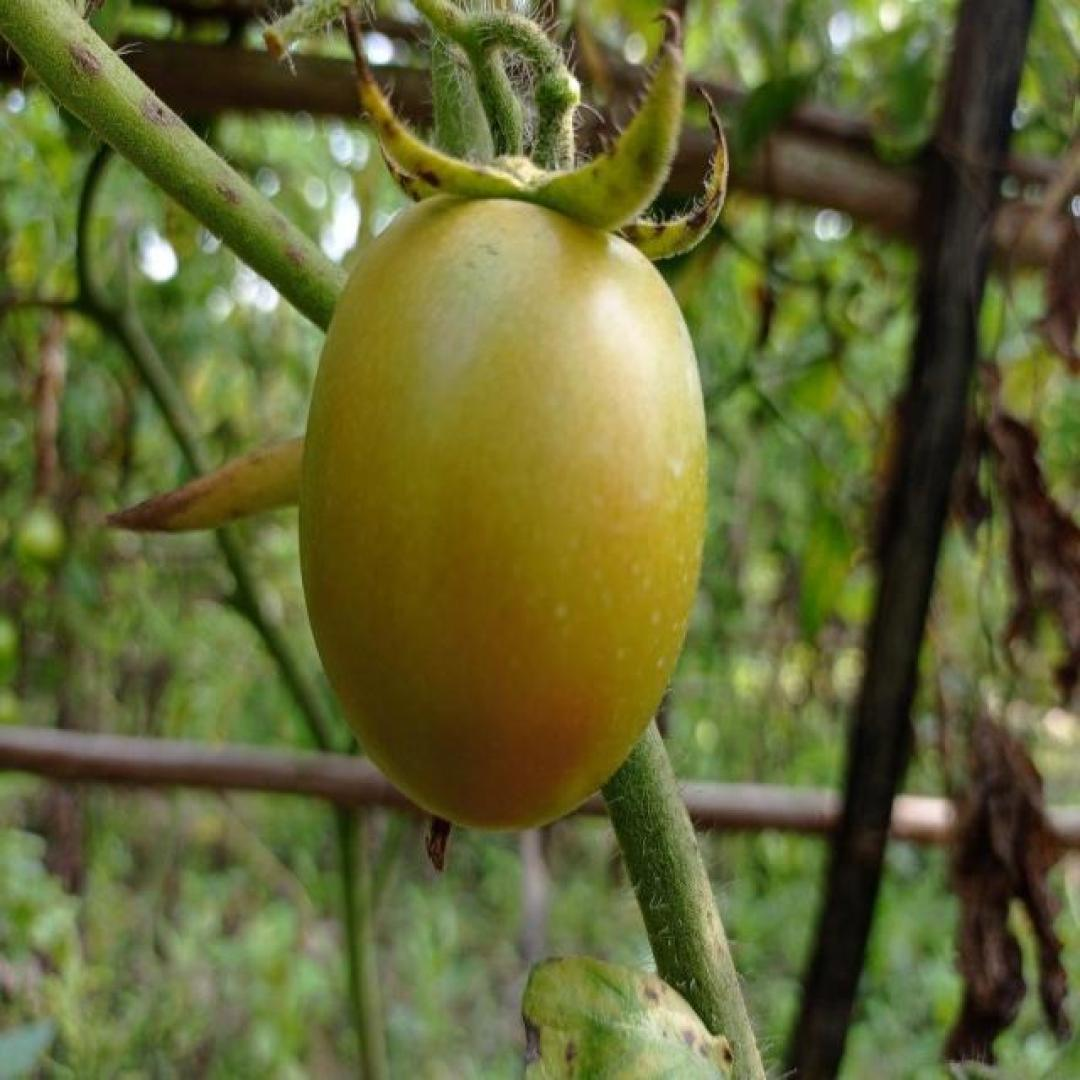setengah_matang: (296, 186, 710, 837)
